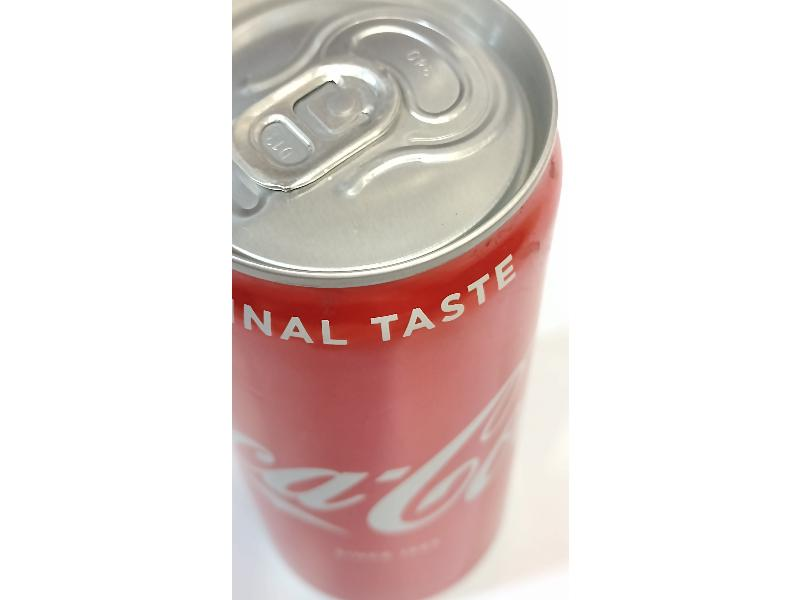can: (228, 7, 557, 595)
